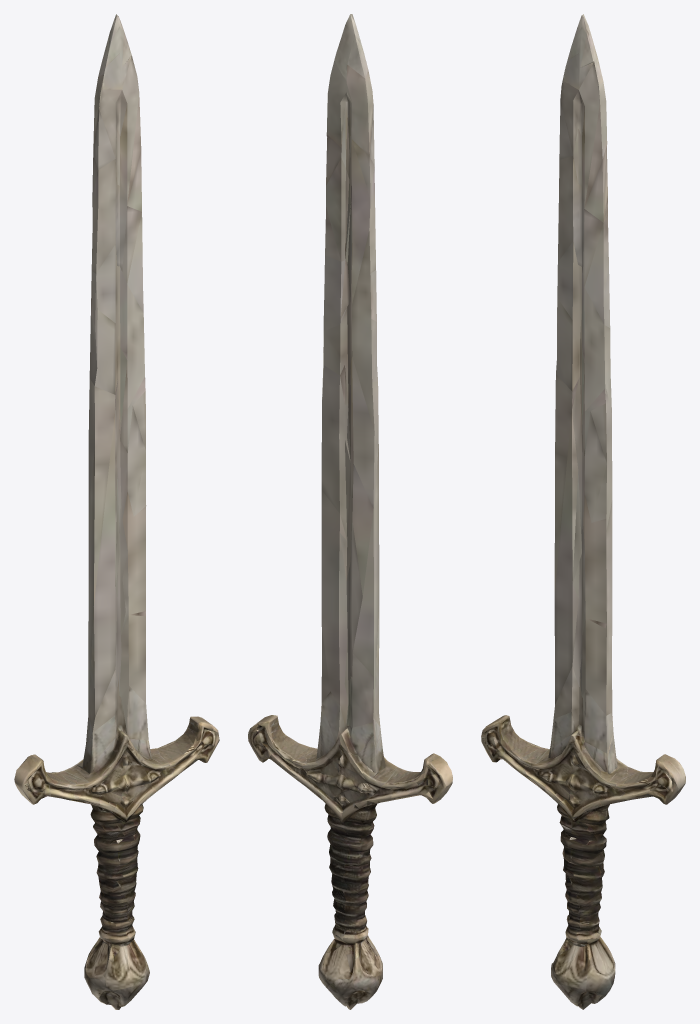
Rendered from sword-white.glb.
3 views of the same model, side by side, from view 1: azimuth 30°, elevation 25°; view 2: azimuth 150°, elevation 25°; view 3: azimuth 330°, elevation 25° (orthographic).
Parts seen in each view (by area): view 1: Sword; view 2: Sword; view 3: Sword.
Part boxes in pixels (x1,y1,x2,y2): Sword: [14, 14, 219, 1009]; Sword: [248, 14, 452, 1009]; Sword: [481, 14, 685, 1009].
Size of the model in its own units: 0.1771 by 0.8498 by 0.0503.
Materials: 1 (1 with a texture image).
